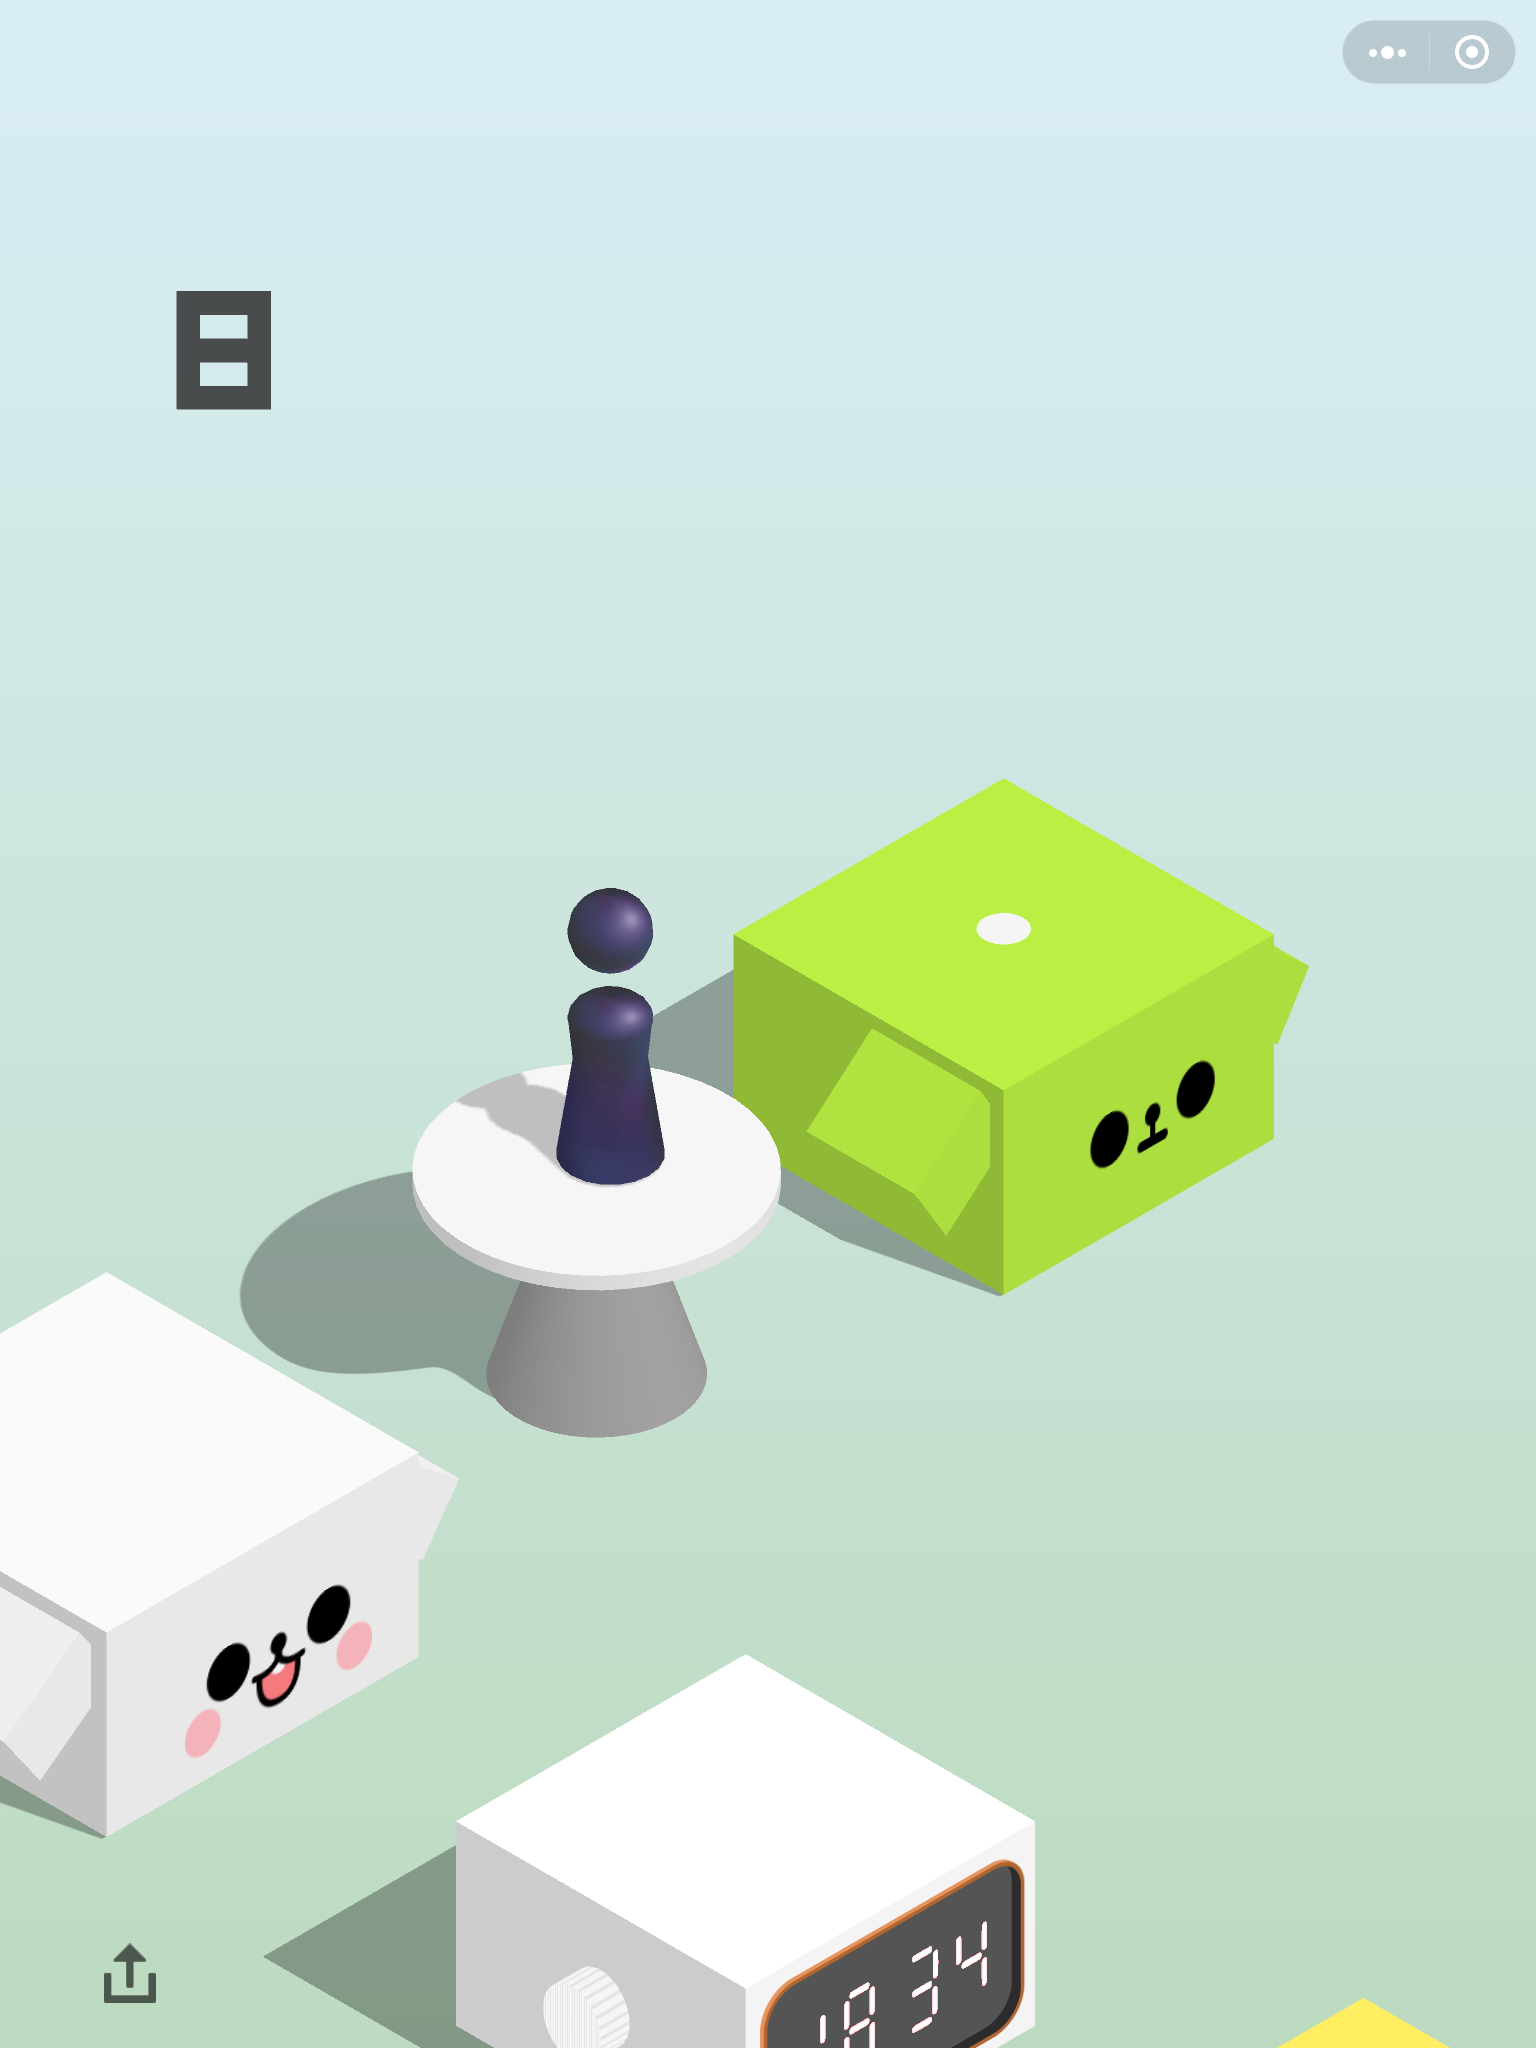c: (403, 1056, 791, 1442)
f: (729, 777, 1313, 1300), (2, 1266, 458, 1840), (449, 1646, 1047, 2048)
r: (549, 884, 670, 1192)
